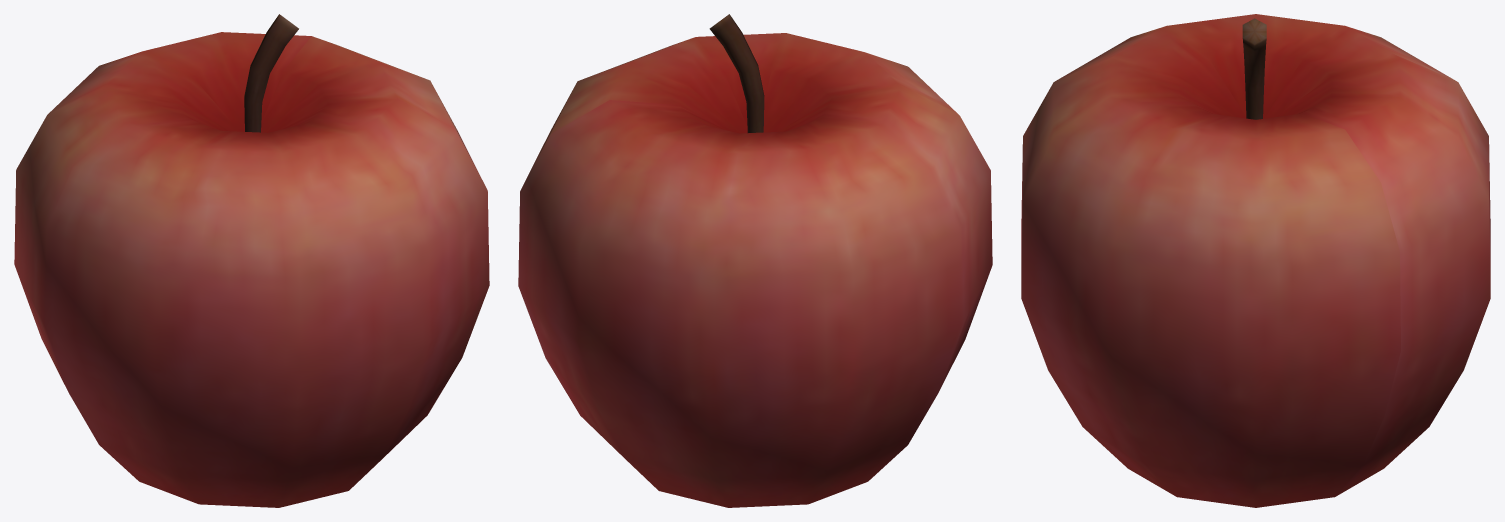
The model's file is TuShuGuan_01_pingguo_01.FBX.
3 views of the same model, side by side, from view 1: azimuth 30°, elevation 25°; view 2: azimuth 150°, elevation 25°; view 3: azimuth 270°, elevation 25° (orthographic). The views are drawn at different scales.
Parts seen in each view (by area): view 1: TianZhuJiaoTang_01_pingguo_01; view 2: TianZhuJiaoTang_01_pingguo_01; view 3: TianZhuJiaoTang_01_pingguo_01.
Boxes of the visible parts, <box> form: TianZhuJiaoTang_01_pingguo_01: <box>14,14,489,507</box>; TianZhuJiaoTang_01_pingguo_01: <box>518,14,992,507</box>; TianZhuJiaoTang_01_pingguo_01: <box>1021,14,1490,507</box>.
Size of the model in its own units: 52.1 by 52.9 by 49.55.
